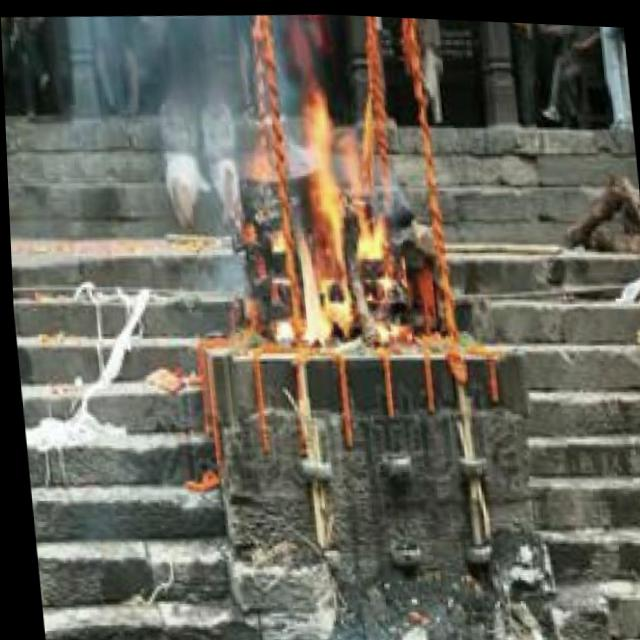Fire: (257, 86, 395, 342)
